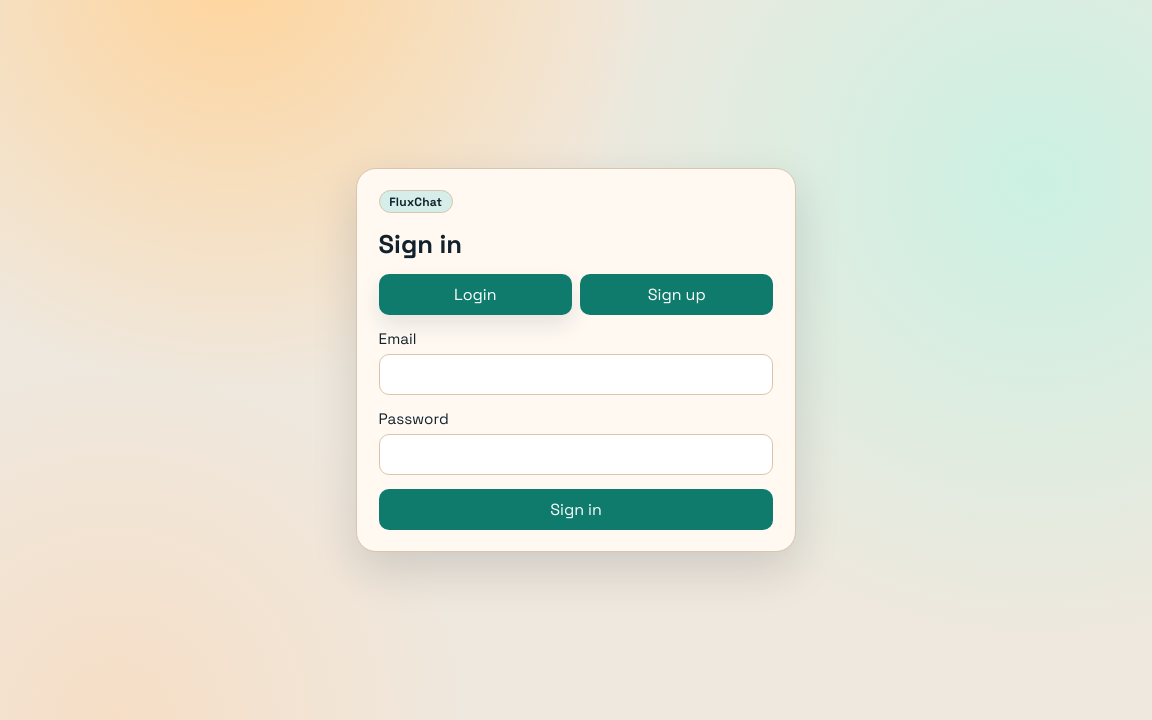
AuthForm › shows validation error for invalid login input
The width and height of the screenshot is (1152, 720).
Type "user@example.com" into the field with test id "auth-email". click: point(576, 374)
box: x1=379 y1=354 x2=773 y2=395
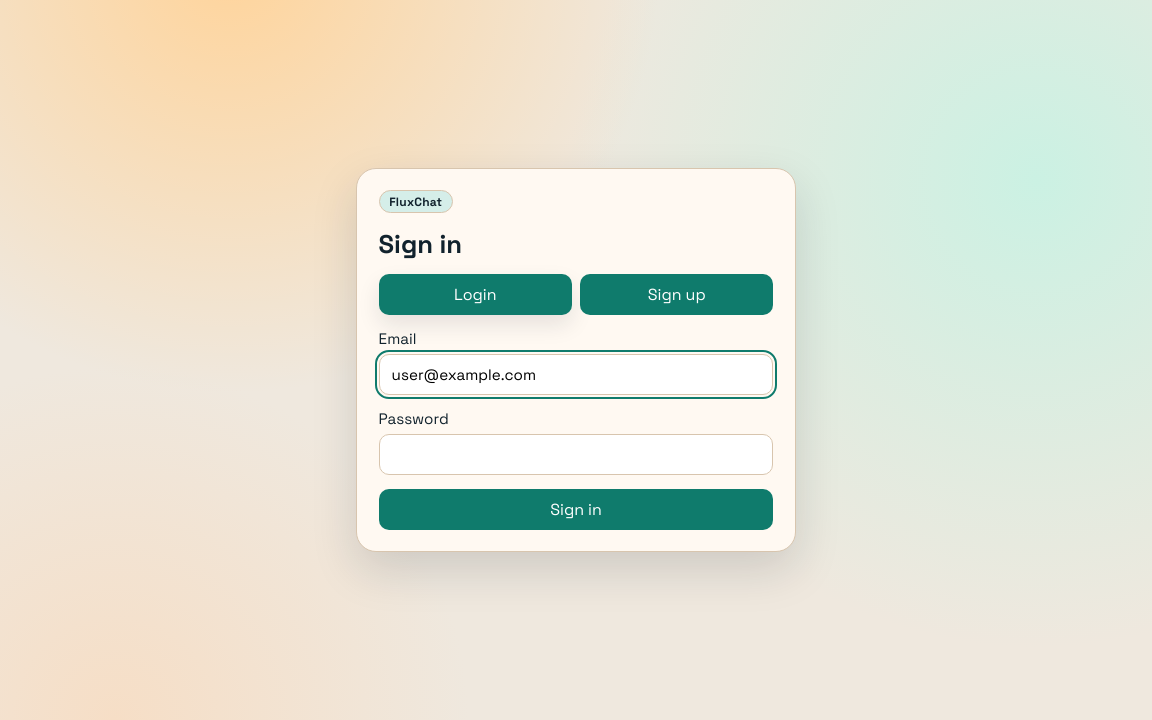
Type "123" into the password field with test id "auth-password". click: point(576, 454)
box: x1=379 y1=434 x2=773 y2=475
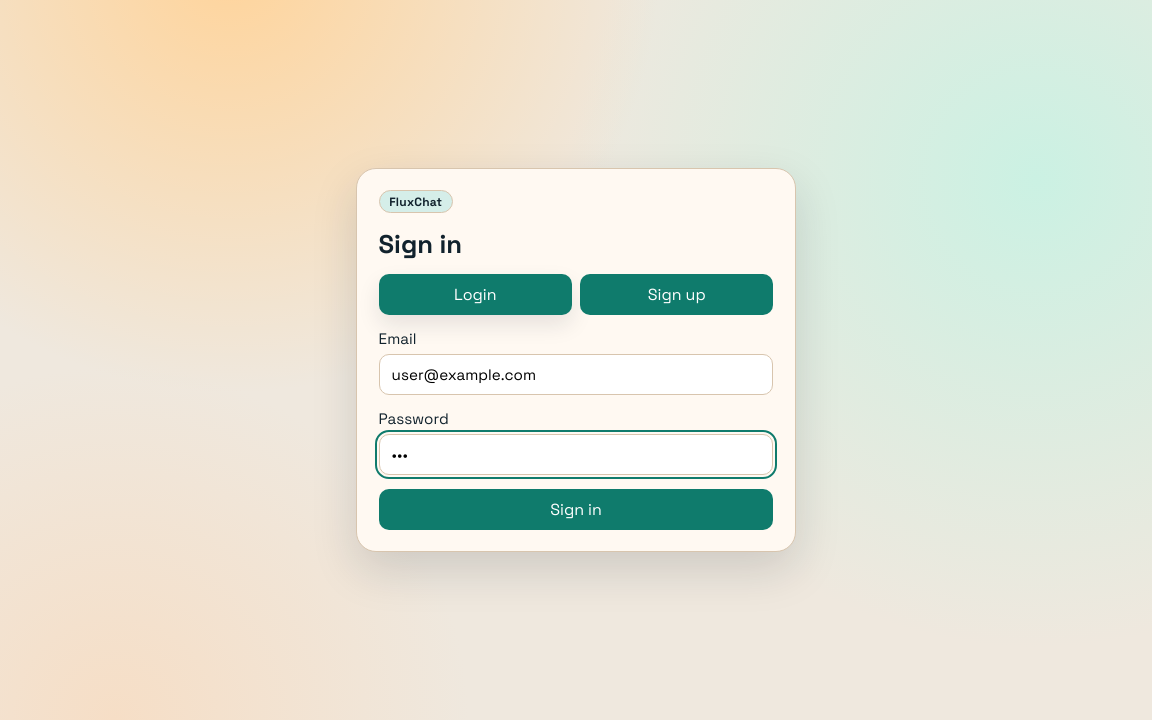
Click the button with test id "auth-submit". click: point(576, 509)
box: x1=379 y1=489 x2=773 y2=530
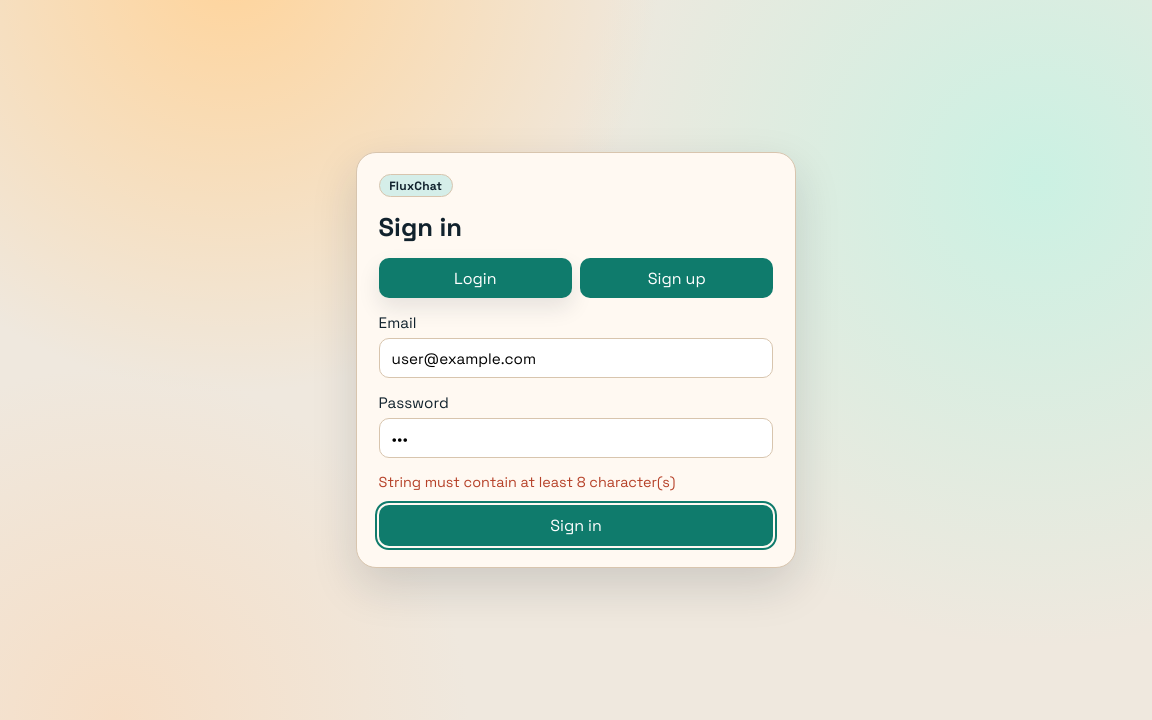
Check: the text "at least 8" is shown, box x1=379 y1=473 x2=675 y2=491
